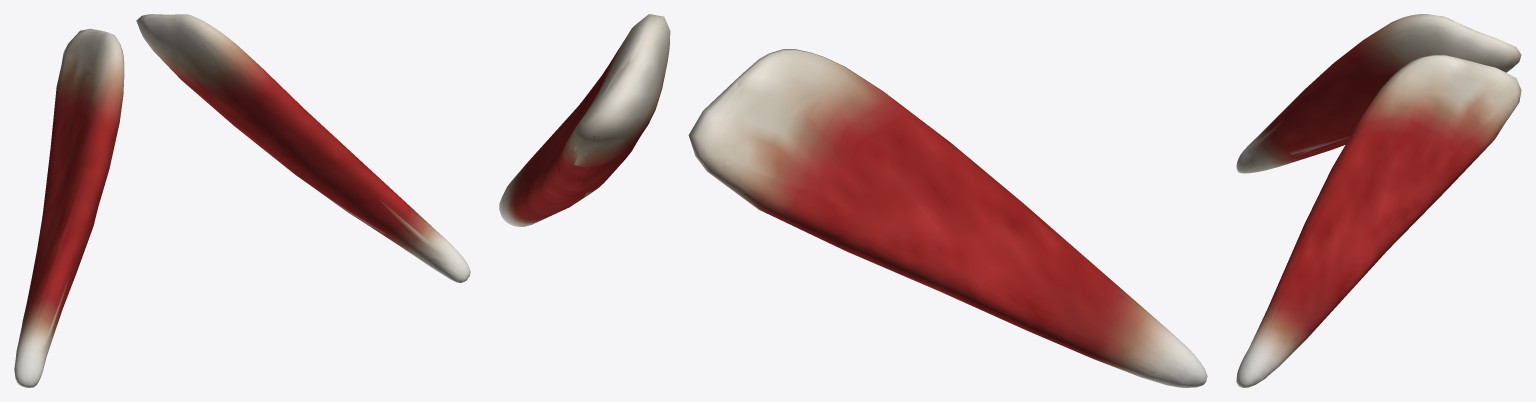
The model's file is Coccygeus.fbx.
The picture shows the model from 3 angles, left to right: view 1: azimuth 30°, elevation 25°; view 2: azimuth 150°, elevation 25°; view 3: azimuth 270°, elevation 25°; orthographic projection. The views are drawn at different scales.
Visible parts, largest first — view 1: Coccygeus, Coccygeus low, Coccygeus high; view 2: Coccygeus, Coccygeus low, Coccygeus high; view 3: Coccygeus, Coccygeus low, Coccygeus high.
Boxes of the visible parts, x1,y1,x2,y2 form: Coccygeus: (14, 14, 470, 387); Coccygeus low: (14, 14, 469, 387); Coccygeus high: (19, 16, 466, 387); Coccygeus: (499, 14, 1207, 387); Coccygeus low: (501, 16, 1203, 387); Coccygeus high: (500, 15, 1202, 386); Coccygeus: (1236, 14, 1521, 387); Coccygeus low: (1237, 14, 1519, 387); Coccygeus high: (1236, 16, 1517, 386).
Bounding box in the file's own units: 3.15 × 1.59 × 1.69.
Materials: 1 (1 with a texture image).
